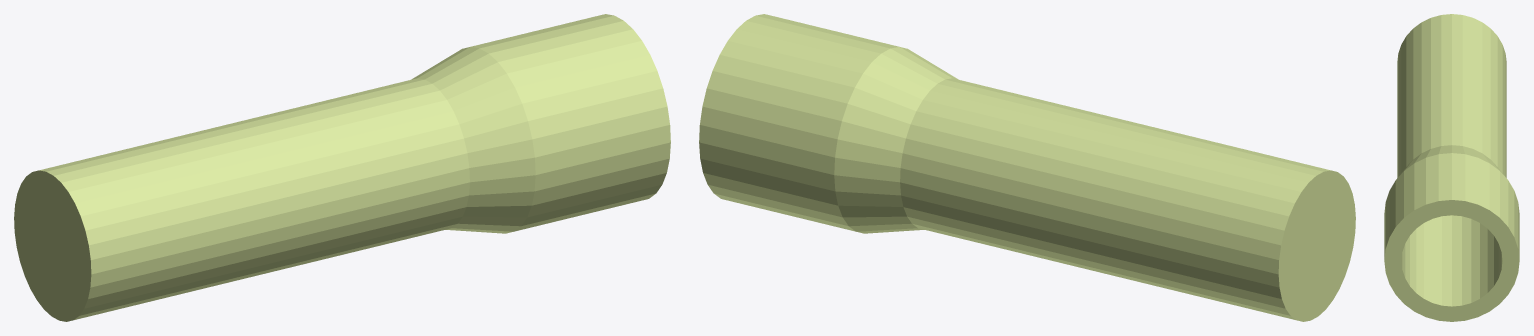
The model's file is cannon.fbx.
3 renders of one model, left to right at view 1: azimuth 30°, elevation 25°; view 2: azimuth 150°, elevation 25°; view 3: azimuth 270°, elevation 25°, orthographic. The views are drawn at different scales.
Visible parts, largest first — view 1: Cube; view 2: Cube; view 3: Cube.
Boxes of the visible parts, box(x1,y1,x2,y2) form: Cube: box(14, 14, 670, 321); Cube: box(699, 14, 1355, 321); Cube: box(1384, 14, 1519, 321).
Size of the model in its own units: 156 by 45.04 by 45.01.
